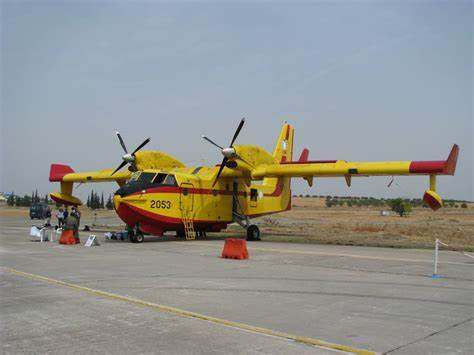Aeronef_de_service: (38, 111, 468, 263)
